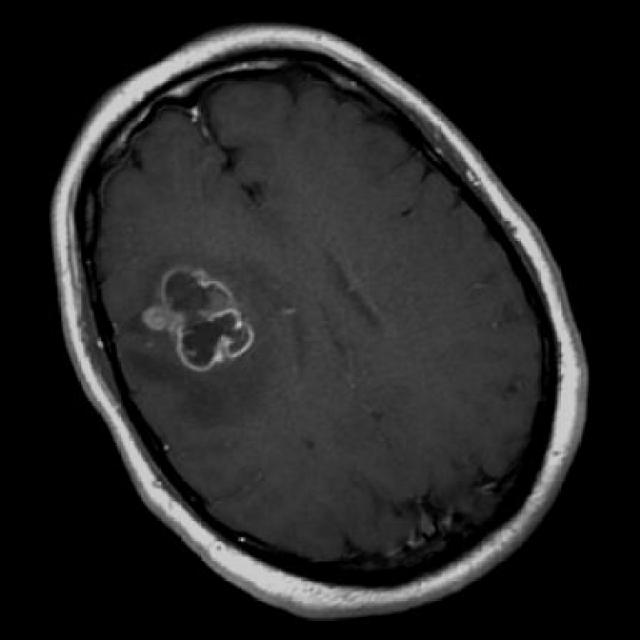Brain-Tumor: (132, 250, 272, 378)
